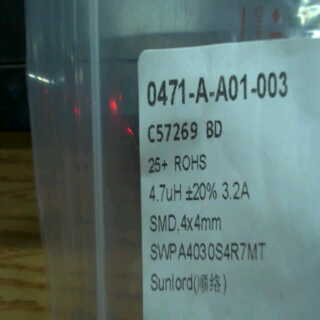4.7uH: (146, 178, 184, 203)
